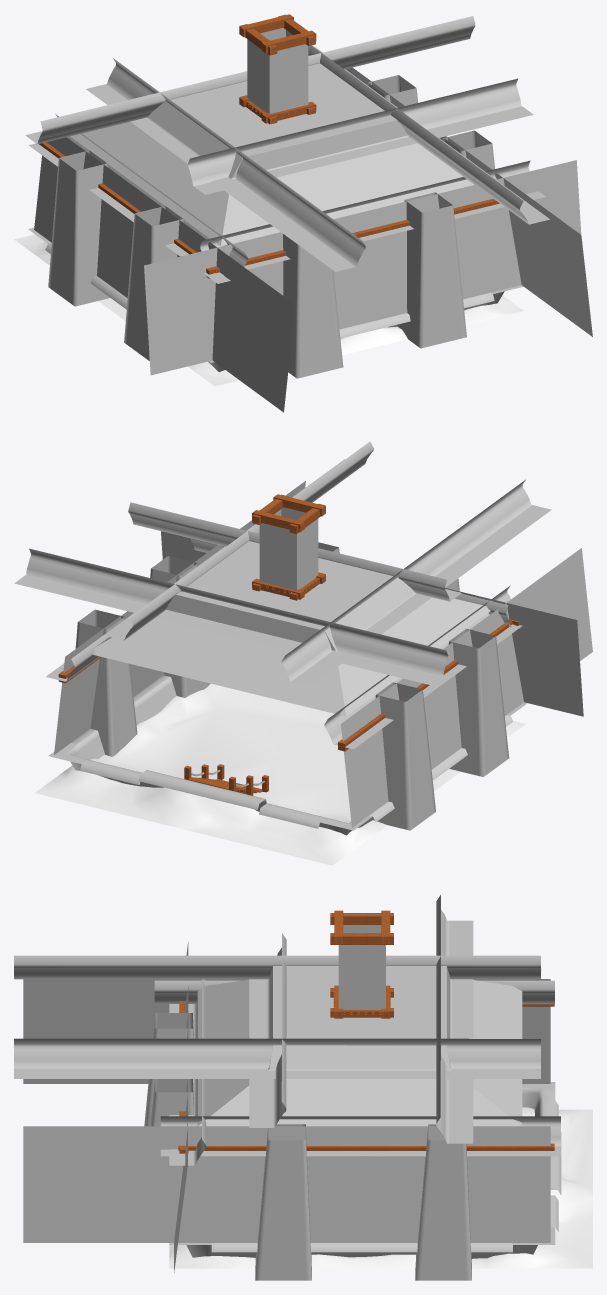
Rendered from Armory_C.fbx.
3 views of the same model, one above another, from view 1: azimuth 30°, elevation 25°; view 2: azimuth 150°, elevation 25°; view 3: azimuth 270°, elevation 25° (orthographic). The views are drawn at different scales.
Visible parts, largest first — view 1: MeshBakerResult.296; view 2: MeshBakerResult.296; view 3: MeshBakerResult.296.
Boxes of the visible parts, <box> form: MeshBakerResult.296: <box>14,14,592,412</box>; MeshBakerResult.296: <box>14,441,592,865</box>; MeshBakerResult.296: <box>14,895,592,1280</box>.
Size of the model in its own units: 2905 by 1773 by 3075.
